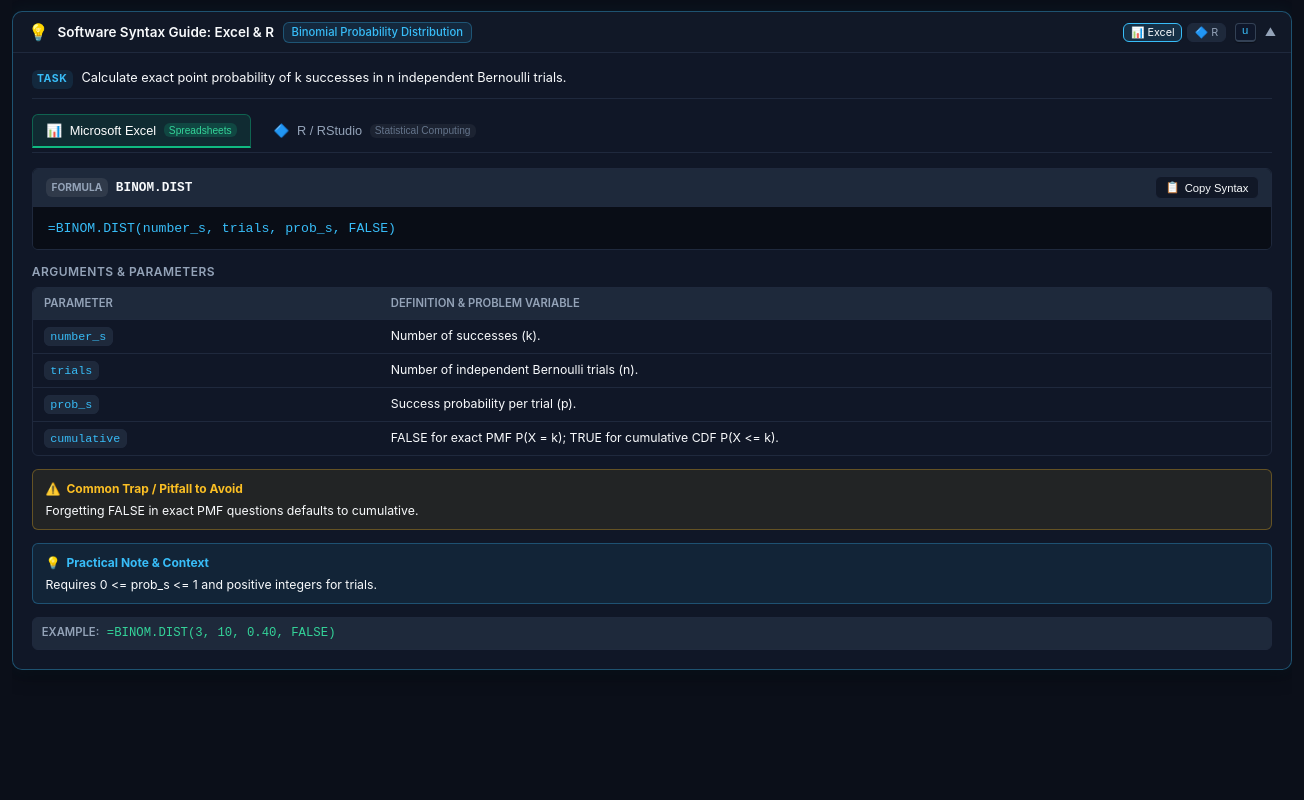
Test: SoftwareToolDrawer Component › switches to R tab on click and updates syntax and arguments
The width and height of the screenshot is (1304, 800).
Click the tab "🔷 R / RStudio Statistical Computing".
click(375, 131)  # box [259,114,490,148]
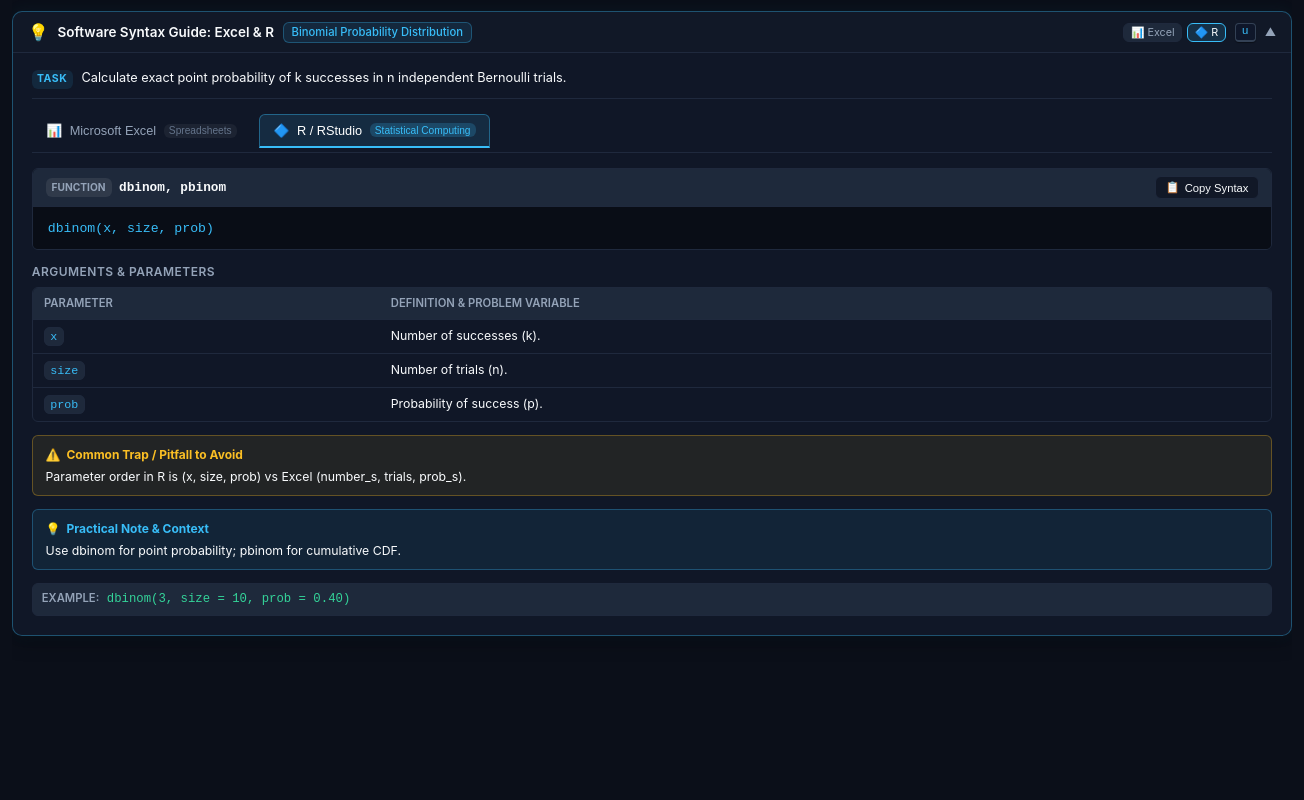
Result: the element with test id "software-syntax-code" reads "dbinom(x, size, prob)" at [48,220,214,236]
Result: the text "size" is shown at [44,361,85,380]
Result: the text "Number of trials (n)." is shown at [380,353,1271,387]
